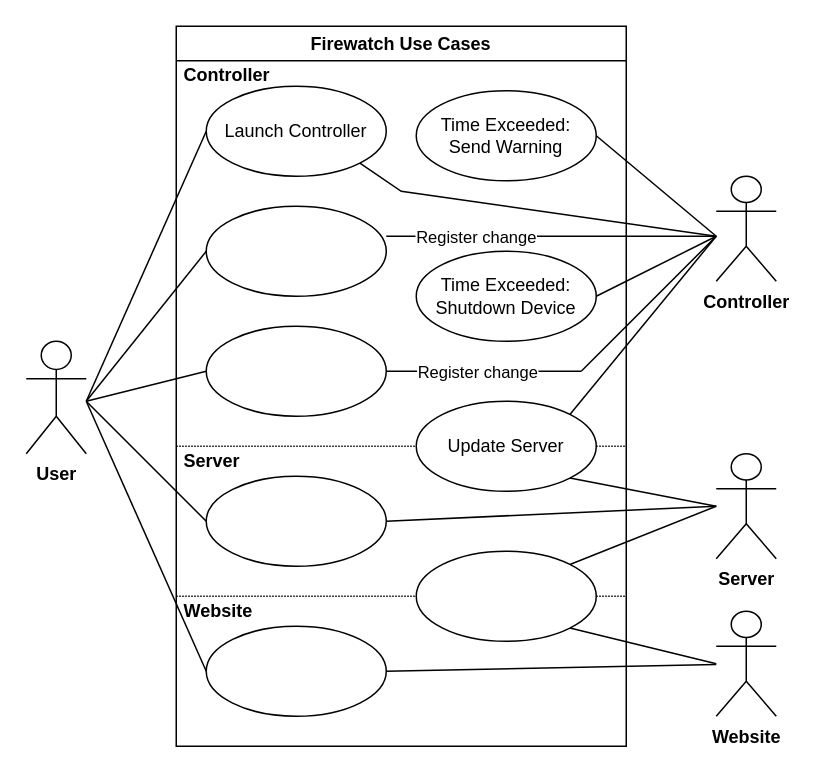
This 815x774 diagram has some shape labels left out. Here are the shapes that lost their labels. From the top down, the centre of each, then its label:
At (x=295, y=250): "Activate/deactivate Device".
At (x=295, y=370): "Enter/leave Room".
At (x=295, y=520): "Launch Server".
At (x=505, y=595): "Modify/read Database".
At (x=295, y=670): "Access Website".
